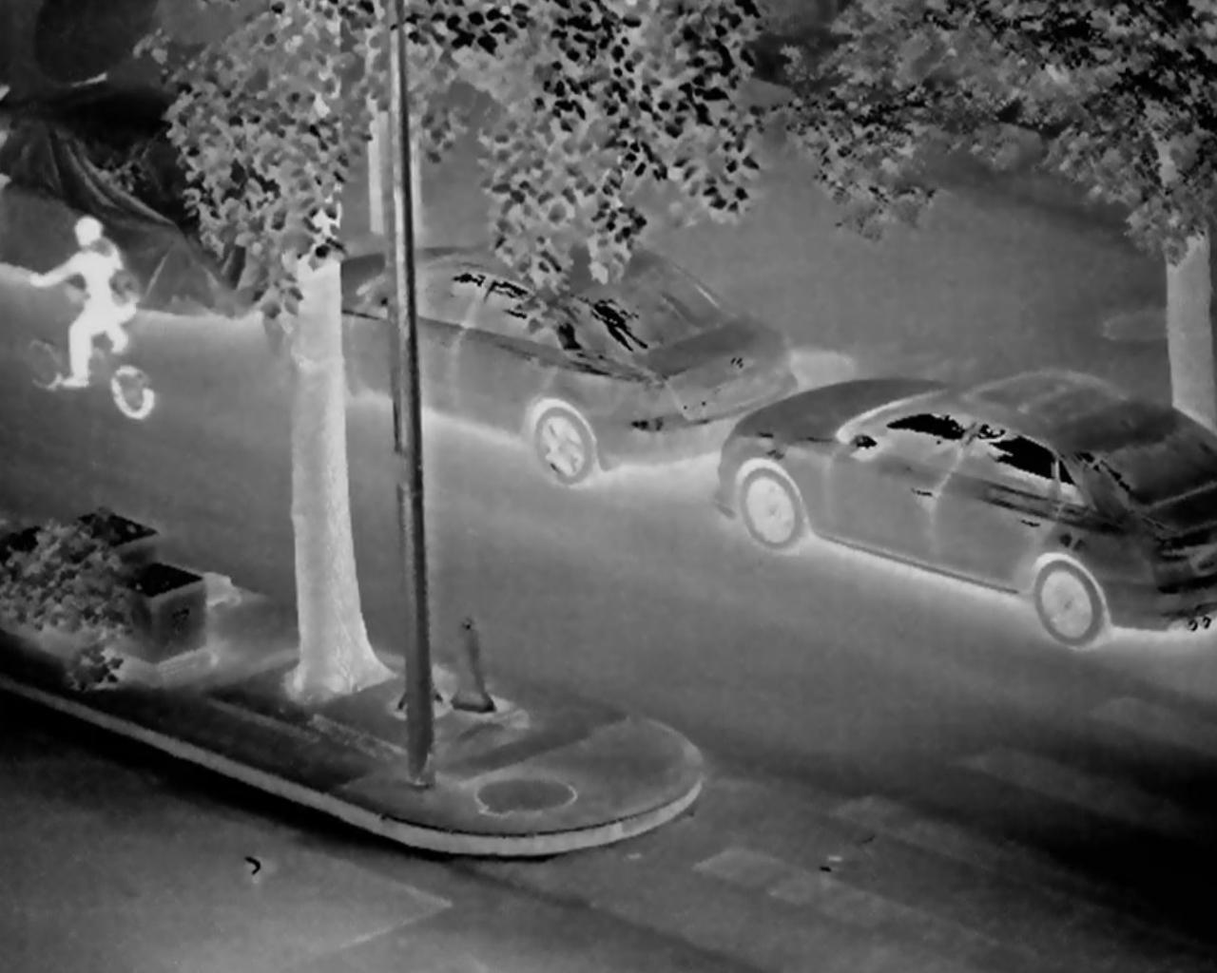person: (36, 216, 166, 391)
